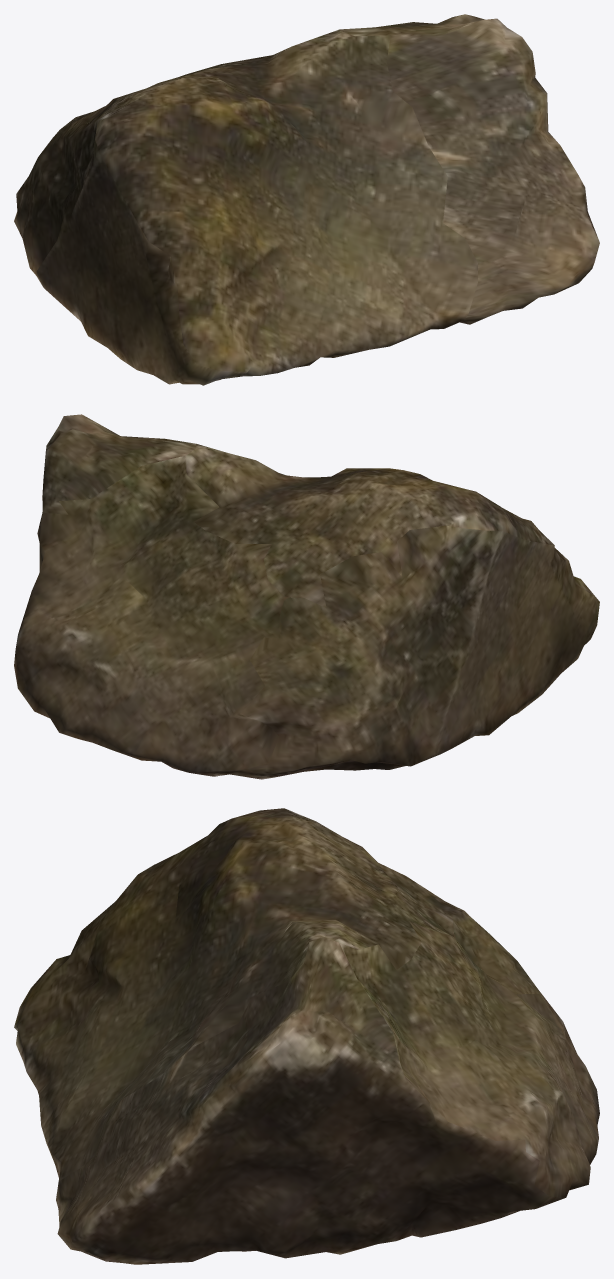
The model's file is rock_2.glb.
3 renders of one model, top to bottom at view 1: azimuth 30°, elevation 25°; view 2: azimuth 150°, elevation 25°; view 3: azimuth 270°, elevation 25°, orthographic. The views are drawn at different scales.
Visible parts, largest first — view 1: rock_moss_set_01_rock03; view 2: rock_moss_set_01_rock03; view 3: rock_moss_set_01_rock03.
Boxes of the visible parts, box(x1,y1,x2,y2) form: rock_moss_set_01_rock03: box(14, 14, 599, 385); rock_moss_set_01_rock03: box(14, 414, 599, 779); rock_moss_set_01_rock03: box(14, 808, 599, 1264).
Bounding box in the file's own units: 2.11 × 1.1 × 2.07.
1 material, 1 textured.
